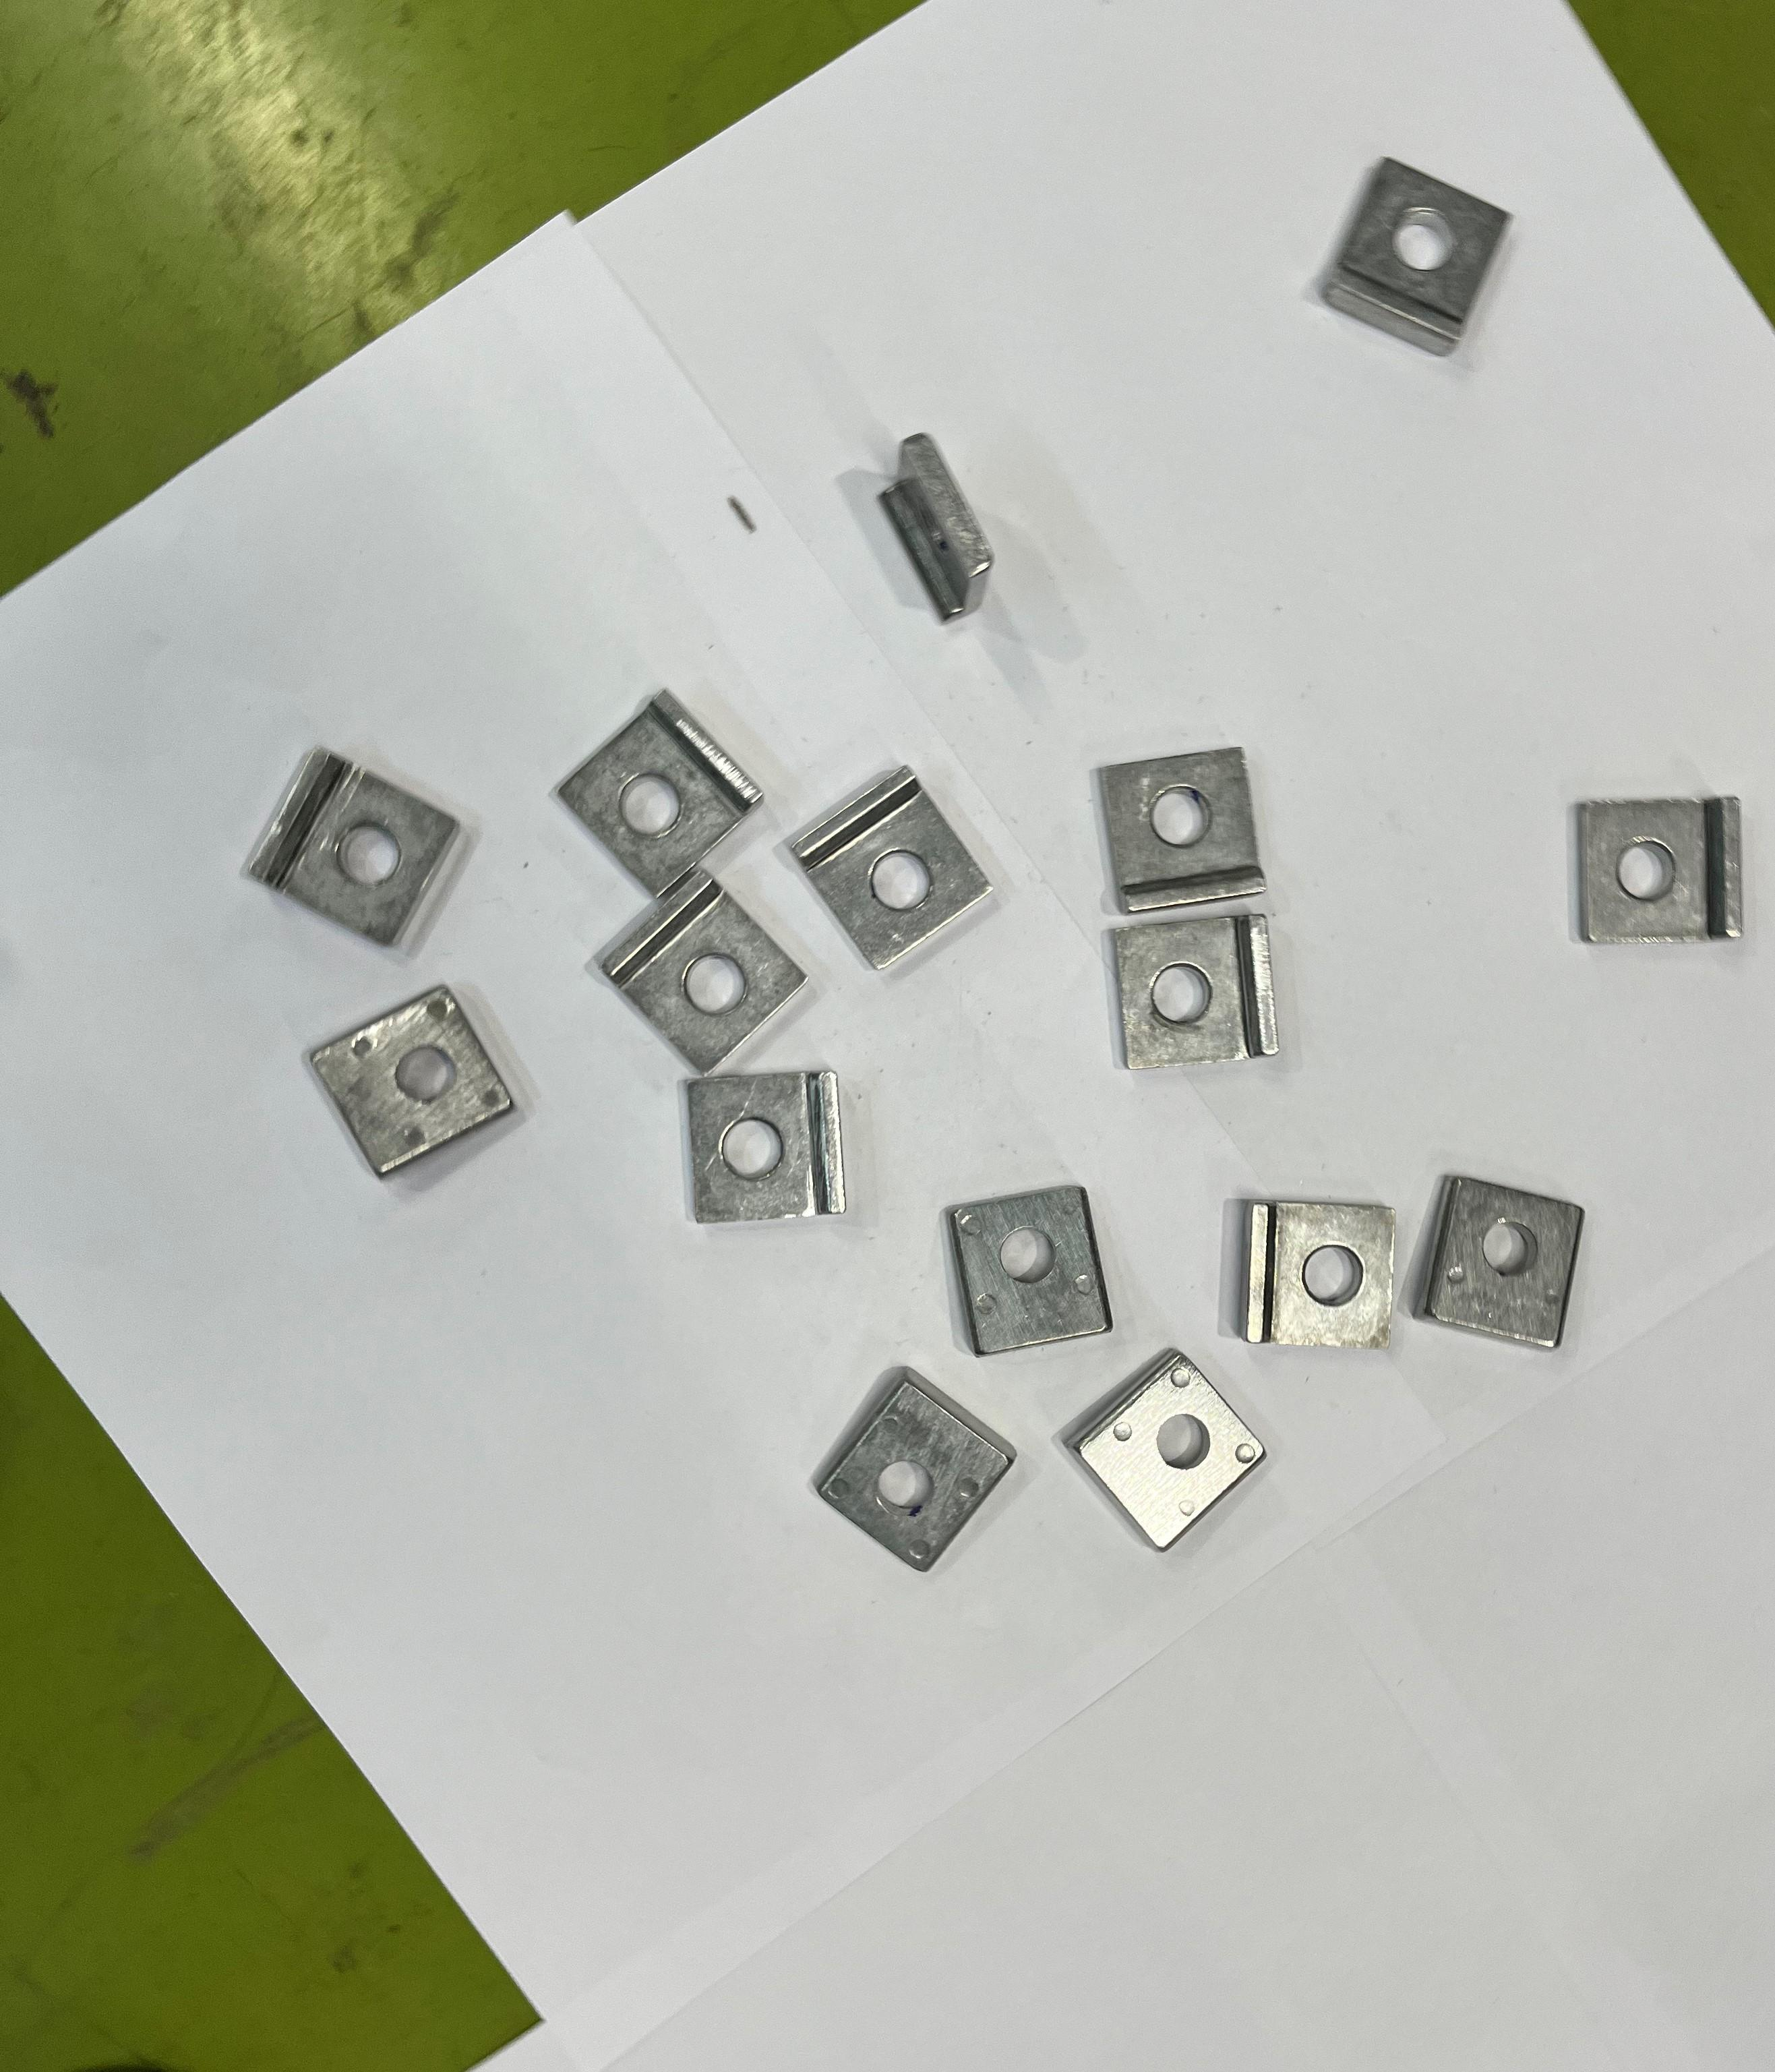Type A: (1319, 148, 1527, 375), (553, 676, 762, 896), (250, 743, 468, 947), (785, 766, 997, 974), (819, 1370, 1023, 1583), (597, 875, 806, 1081), (1062, 1343, 1266, 1553), (310, 986, 518, 1185), (1085, 734, 1282, 915), (1416, 1158, 1588, 1364), (944, 1172, 1116, 1356), (1565, 790, 1752, 958), (666, 1069, 849, 1238), (1097, 908, 1287, 1070), (880, 431, 1007, 634), (1245, 1194, 1402, 1354)
